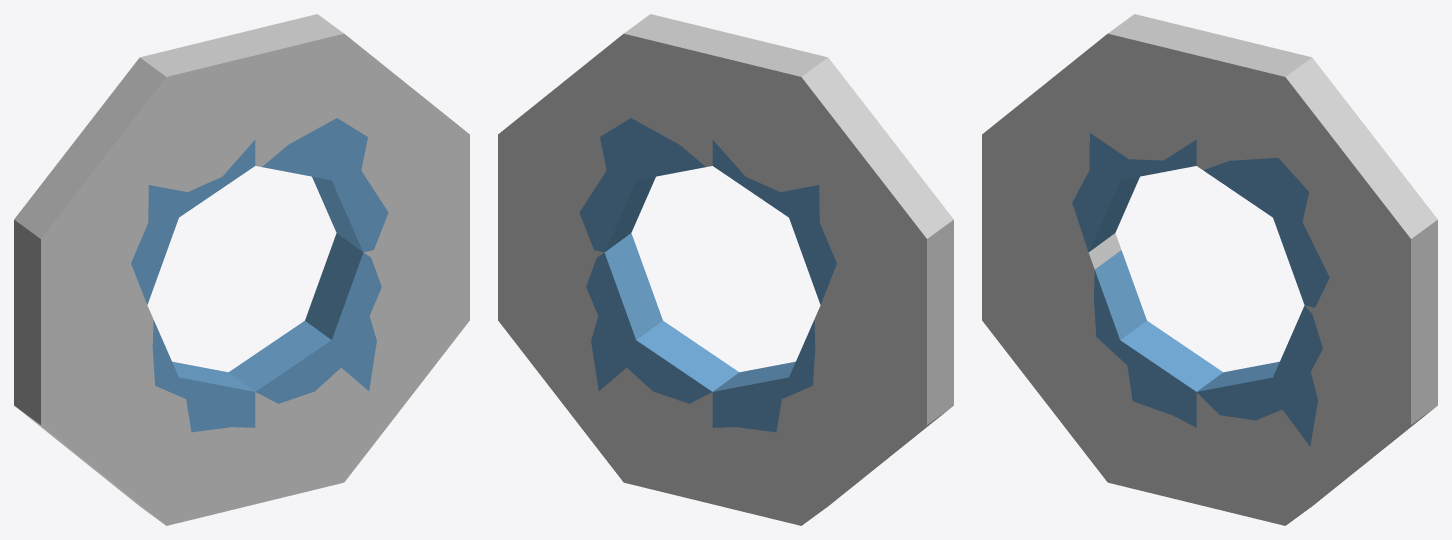
Rendered from wall_simple.fbx.
3 views of the same model, side by side, from view 1: azimuth 30°, elevation 25°; view 2: azimuth 150°, elevation 25°; view 3: azimuth 330°, elevation 25° (orthographic).
Parts seen in each view (by area): view 1: wall_simple1, wall_simple4, wall_simple2, wall_simple3, wall_piece3, wall_piece2, wall_piece4, wall_piece1; view 2: wall_simple1, wall_simple4, wall_simple2, wall_simple3, wall_piece3, wall_piece2, wall_piece4, wall_piece1; view 3: wall_simple2, wall_simple1, wall_simple3, wall_simple4, wall_piece4, wall_piece3, wall_piece2, wall_piece1.
Part boxes in pixels (x1,y1,x2,y2): wall_simple1: [14, 35, 255, 331]; wall_simple4: [14, 305, 255, 525]; wall_simple2: [229, 14, 469, 249]; wall_simple3: [255, 227, 469, 504]; wall_piece3: [228, 233, 381, 403]; wall_piece2: [262, 118, 388, 252]; wall_piece4: [152, 320, 255, 432]; wall_piece1: [131, 140, 255, 304]; wall_simple1: [712, 35, 953, 331]; wall_simple4: [712, 305, 953, 525]; wall_simple2: [498, 14, 738, 249]; wall_simple3: [498, 227, 712, 504]; wall_piece3: [586, 233, 739, 403]; wall_piece2: [579, 118, 705, 252]; wall_piece4: [712, 320, 815, 432]; wall_piece1: [712, 140, 836, 304]; wall_simple2: [1196, 35, 1437, 331]; wall_simple1: [982, 14, 1222, 252]; wall_simple3: [1196, 305, 1437, 525]; wall_simple4: [982, 227, 1196, 504]; wall_piece4: [1094, 250, 1223, 427]; wall_piece3: [1197, 305, 1322, 446]; wall_piece2: [1203, 158, 1329, 307]; wall_piece1: [1072, 133, 1196, 252].
Bounding box in the file's own units: 397 × 397 × 43.
